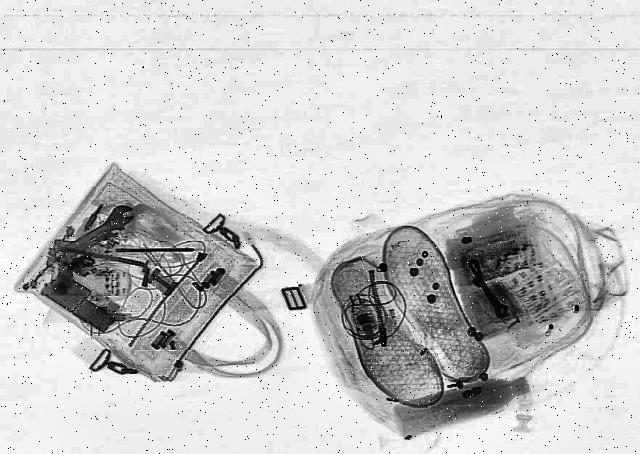Wrench: (48, 202, 144, 258), (55, 224, 119, 263)
